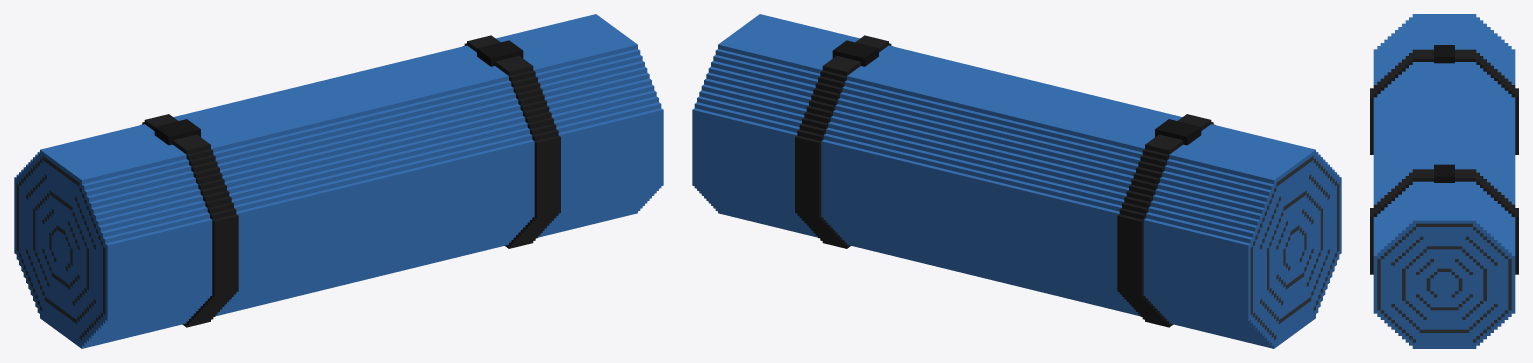
File: rollmat.glb
3 views of the same model, side by side, from view 1: azimuth 30°, elevation 25°; view 2: azimuth 150°, elevation 25°; view 3: azimuth 270°, elevation 25° (orthographic). The views are drawn at different scales.
Visible parts, largest first — view 1: rollmat:compound; view 2: rollmat:compound; view 3: rollmat:compound.
Boxes of the visible parts, x1,y1,x2,y2 form: rollmat:compound: (14,14,663,348); rollmat:compound: (692,14,1341,348); rollmat:compound: (1370,14,1518,348).
Size of the model in its own units: 0.552 by 0.172 by 0.168.
